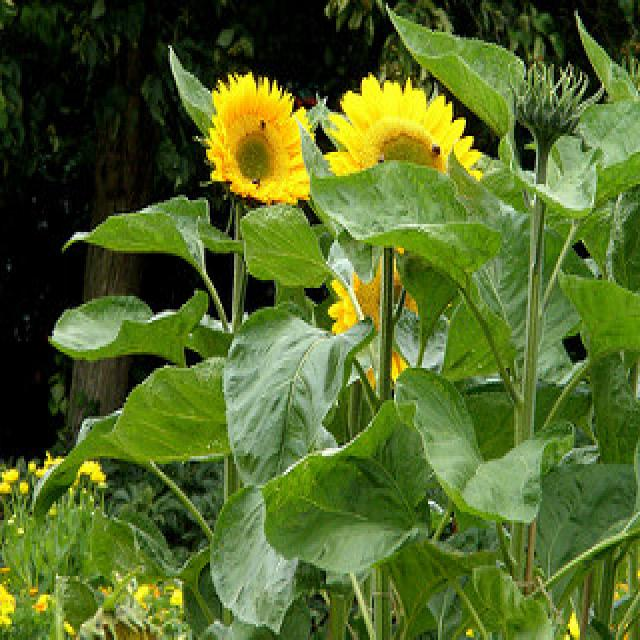sunflower: (323, 65, 485, 242), (203, 69, 315, 208)
